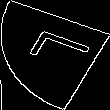L_SE: (16, 30, 94, 80)
